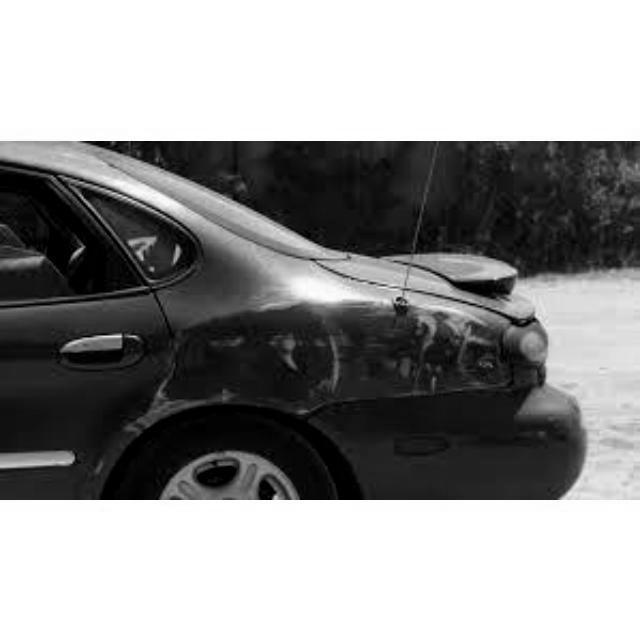quaterpanel-dent: (166, 263, 495, 414)
